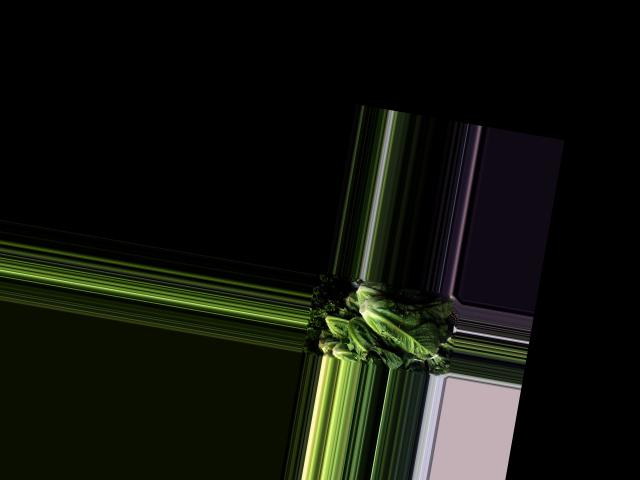lettuce: (339, 316, 411, 367)
